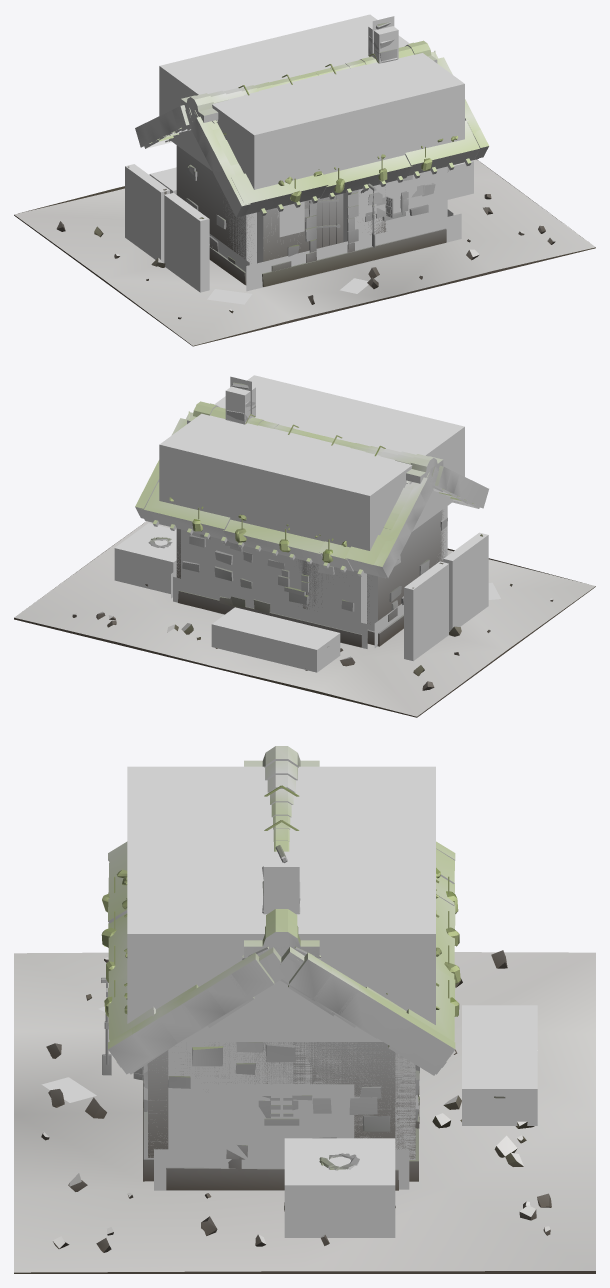
The model's file is bld_cottage_ness_shared.glb.
3 renders of one model, top to bottom at view 1: azimuth 30°, elevation 25°; view 2: azimuth 150°, elevation 25°; view 3: azimuth 270°, elevation 25°, orthographic. The views are drawn at different scales.
Parts seen in each view (by area): view 1: col_roof, ground_mud, roof_turf_thatch, decals_ness, wall_S_stones, col_net_0, wall_W, col_net_1, col_wall_S_2, wall_S, door_main_leaf, col_wall_W_0 (+6 smaller); view 2: col_roof, ground_mud, roof_turf_thatch, col_wall_N_0, col_boat, wall_N_stones, col_net_1, col_peat, col_net_0, decals_ness, wall_W, wall_W_stones (+5 smaller); view 3: ground_mud, col_roof, roof_turf_thatch, decals_ness, col_peat, col_boat, col_wall_E_0, wall_E_stones, wall_E, ground_clutter, col_chimney, wall_S (+4 smaller).
Part boxes in pixels (bbox=[...]): col_roof: bbox=[159, 14, 464, 189]; ground_mud: bbox=[14, 159, 595, 346]; roof_turf_thatch: bbox=[135, 40, 488, 217]; decals_ness: bbox=[207, 16, 461, 304]; wall_S_stones: bbox=[262, 175, 446, 286]; col_net_0: bbox=[164, 193, 209, 292]; wall_W: bbox=[176, 145, 253, 259]; col_net_1: bbox=[125, 164, 169, 262]; col_wall_S_2: bbox=[343, 167, 443, 242]; wall_S: bbox=[263, 187, 386, 261]; door_main_leaf: bbox=[315, 193, 343, 248]; col_wall_W_0: bbox=[223, 200, 256, 264]; col_roof: bbox=[159, 375, 464, 550]; ground_mud: bbox=[14, 521, 595, 717]; roof_turf_thatch: bbox=[135, 401, 488, 578]; col_wall_N_0: bbox=[181, 529, 366, 623]; col_boat: bbox=[211, 607, 340, 672]; wall_N_stones: bbox=[178, 534, 368, 647]; col_net_1: bbox=[404, 561, 448, 660]; col_peat: bbox=[114, 523, 176, 593]; col_net_0: bbox=[443, 532, 488, 631]; decals_ness: bbox=[171, 376, 500, 648]; wall_W: bbox=[367, 509, 445, 623]; wall_W_stones: bbox=[367, 517, 447, 646]; ground_mud: bbox=[14, 952, 595, 1273]; col_roof: bbox=[127, 766, 435, 1041]; roof_turf_thatch: bbox=[108, 746, 455, 1075]; decals_ness: bbox=[41, 1006, 409, 1190]; col_peat: bbox=[284, 1138, 395, 1237]; col_boat: bbox=[462, 1005, 537, 1125]; col_wall_E_0: bbox=[168, 1042, 394, 1149]; wall_E_stones: bbox=[166, 1042, 398, 1190]; wall_E: bbox=[180, 1042, 395, 1138]; ground_clutter: bbox=[41, 950, 551, 1252]; col_chimney: bbox=[263, 851, 299, 914]; wall_S: bbox=[148, 1050, 168, 1157].
Size of the model in its own units: 13 by 6.26 by 10.
